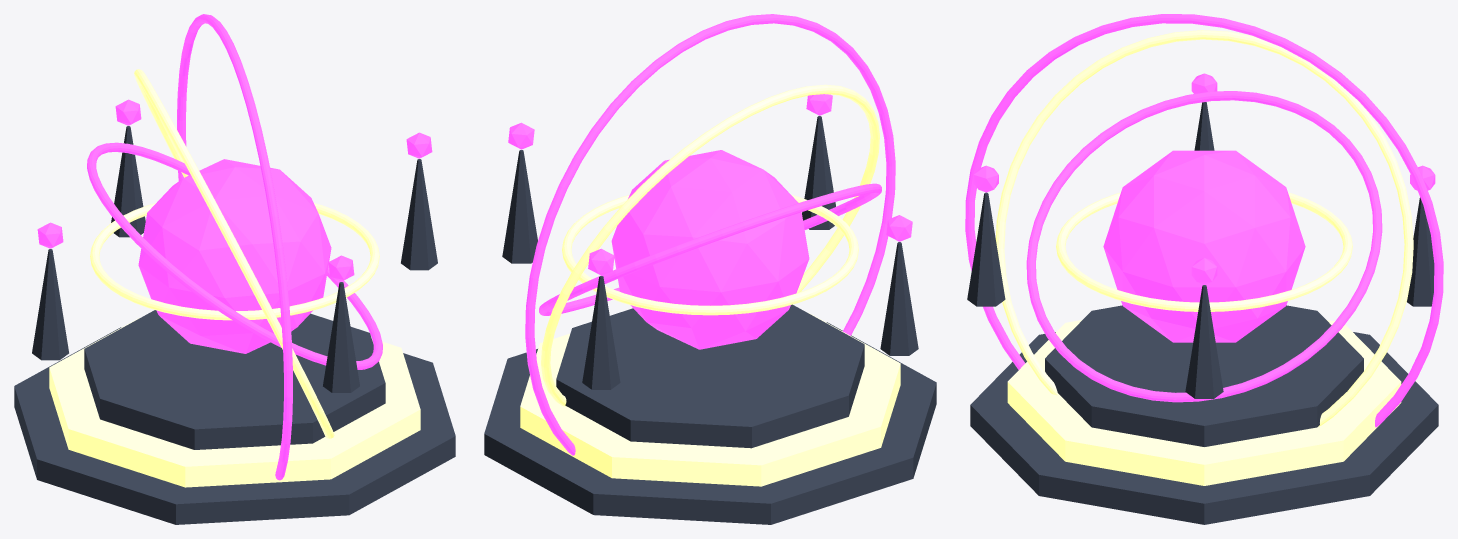
The model's file is gpu-blender-v24.glb.
The picture shows the model from 3 angles, left to right: view 1: azimuth 30°, elevation 25°; view 2: azimuth 150°, elevation 25°; view 3: azimuth 270°, elevation 25°; orthographic projection. The views are drawn at different scales.
Visible parts, largest first — view 1: Cylinder.002, SovereignCore_datamosh-glitch-studio, Cylinder, Cylinder.001, Torus.003, Torus.001, Torus.002, Torus, Cone, Cone.002, Cone.003, Cone.001 (+4 smaller); view 2: Cylinder.002, SovereignCore_datamosh-glitch-studio, Cylinder, Cylinder.001, Torus.003, Torus.002, Torus, Torus.001, Cone.001, Cone.002, Cone, Cone.003 (+3 smaller); view 3: SovereignCore_datamosh-glitch-studio, Cylinder.002, Cylinder, Cylinder.001, Torus.001, Torus.003, Torus.002, Torus, Cone.003, Cone, Cone.001, Cone.002 (+2 smaller).
Boxes of the visible parts, x1,y1,x2,y2 form: Cylinder.002: [84, 310, 385, 449]; SovereignCore_datamosh-glitch-studio: [138, 159, 331, 353]; Cylinder: [14, 327, 455, 524]; Cylinder.001: [49, 318, 420, 487]; Torus.003: [177, 14, 292, 480]; Torus.001: [87, 142, 382, 369]; Torus.002: [134, 69, 334, 438]; Torus: [90, 203, 379, 320]; Cone: [401, 159, 437, 270]; Cone.002: [32, 249, 68, 360]; Cone.003: [323, 282, 359, 392]; Cone.001: [111, 126, 145, 237]; Cylinder.002: [556, 304, 864, 448]; SovereignCore_datamosh-glitch-studio: [611, 150, 809, 349]; Cylinder: [484, 322, 936, 524]; Cylinder.001: [520, 313, 900, 486]; Torus.003: [525, 14, 895, 455]; Torus.002: [541, 84, 879, 406]; Torus: [562, 195, 858, 315]; Torus.001: [539, 183, 881, 315]; Cone.001: [582, 276, 620, 389]; Cone.002: [880, 242, 918, 355]; Cone: [502, 150, 537, 263]; Cone.003: [802, 116, 835, 229]; SovereignCore_datamosh-glitch-studio: [1103, 150, 1305, 342]; Cylinder.002: [1045, 305, 1363, 446]; Cylinder: [970, 332, 1438, 524]; Cylinder.001: [1007, 320, 1401, 485]; Torus.001: [1026, 91, 1382, 402]; Torus.003: [965, 14, 1443, 427]; Torus.002: [995, 30, 1413, 426]; Torus: [1056, 192, 1352, 311]; Cone.003: [967, 192, 1005, 306]; Cone: [1185, 285, 1223, 398]; Cone.001: [1407, 197, 1434, 306]; Cone.002: [1194, 102, 1214, 150].
Size of the model in its own units: 4.41 by 4.7 by 4.49.
